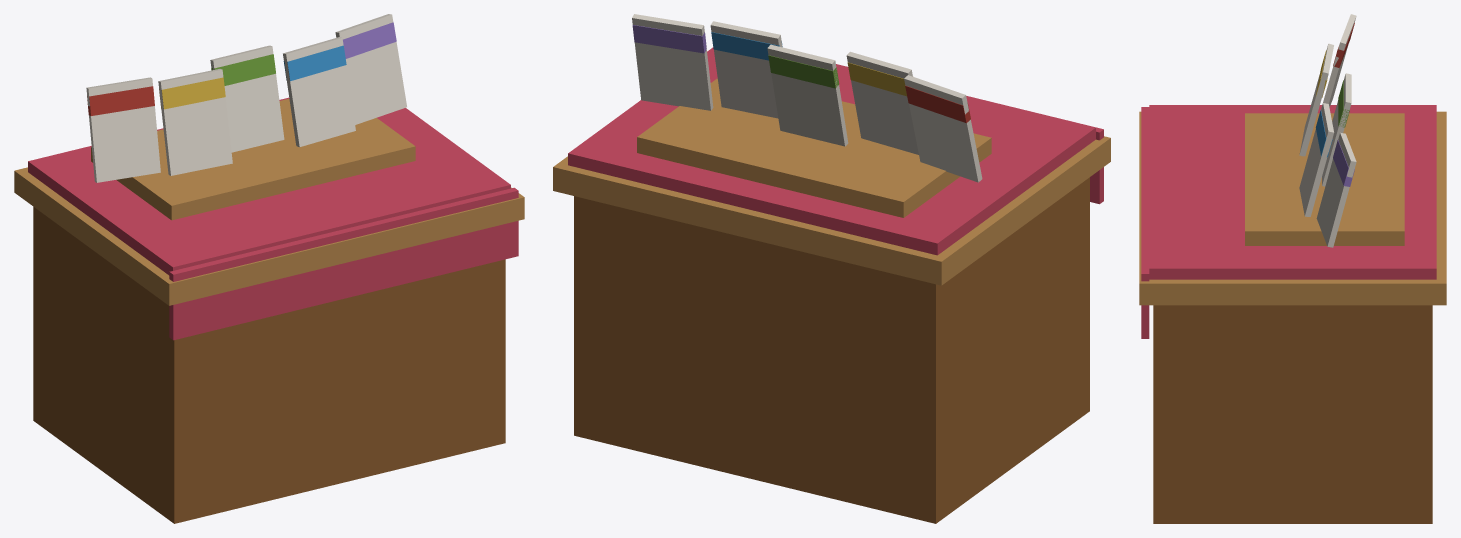
The model's file is recipe_cards_display.glb.
The picture shows the model from 3 angles, left to right: view 1: azimuth 30°, elevation 25°; view 2: azimuth 150°, elevation 25°; view 3: azimuth 270°, elevation 25°; orthographic projection. The views are drawn at different scales.
Visible parts, largest first — view 1: decor-recipe_cards_display; view 2: decor-recipe_cards_display; view 3: decor-recipe_cards_display.
Boxes of the visible parts, box(x1,y1,x2,y2) form: decor-recipe_cards_display: box(14, 14, 524, 523); decor-recipe_cards_display: box(553, 14, 1110, 523); decor-recipe_cards_display: box(1139, 14, 1446, 523).
Size of the model in its own units: 1.02 by 0.9844 by 0.77.
